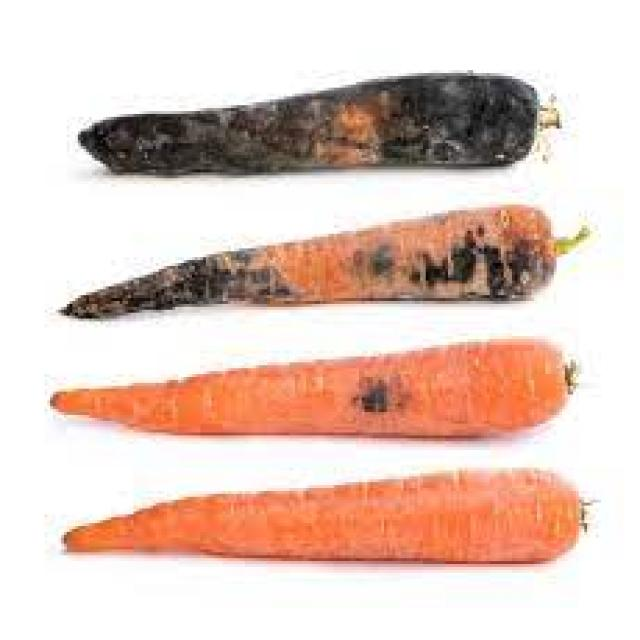Fresh_Carrot: (50, 455, 596, 580)
Stale_Carrot: (70, 58, 567, 198), (28, 206, 574, 322), (41, 339, 580, 429)
